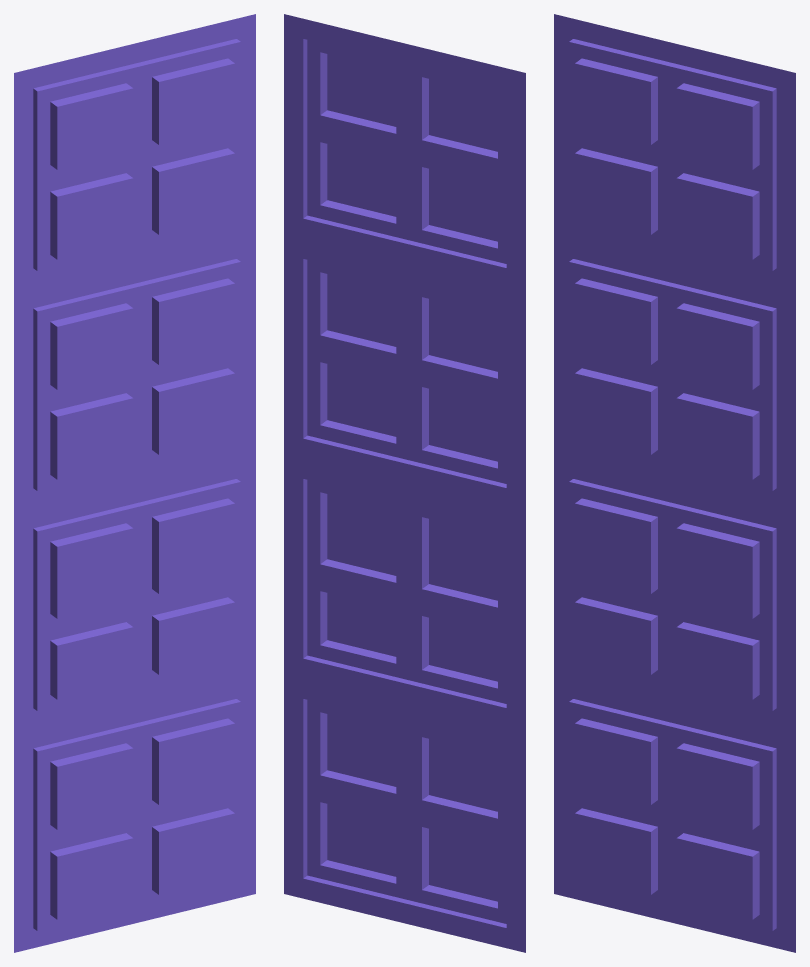
The model's file is entreventana.fbx.
3 views of the same model, side by side, from view 1: azimuth 30°, elevation 25°; view 2: azimuth 150°, elevation 25°; view 3: azimuth 330°, elevation 25° (orthographic).
Visible parts, largest first — view 1: ENTREVENTANAS; view 2: ENTREVENTANAS; view 3: ENTREVENTANAS.
Part boxes in pixels (left/top/right/bottom): ENTREVENTANAS: left=14, top=14, right=255, bottom=952; ENTREVENTANAS: left=284, top=14, right=525, bottom=952; ENTREVENTANAS: left=554, top=14, right=795, bottom=952.
Bounding box in the file's own units: 0.5753 × 2 × 0.0461.
